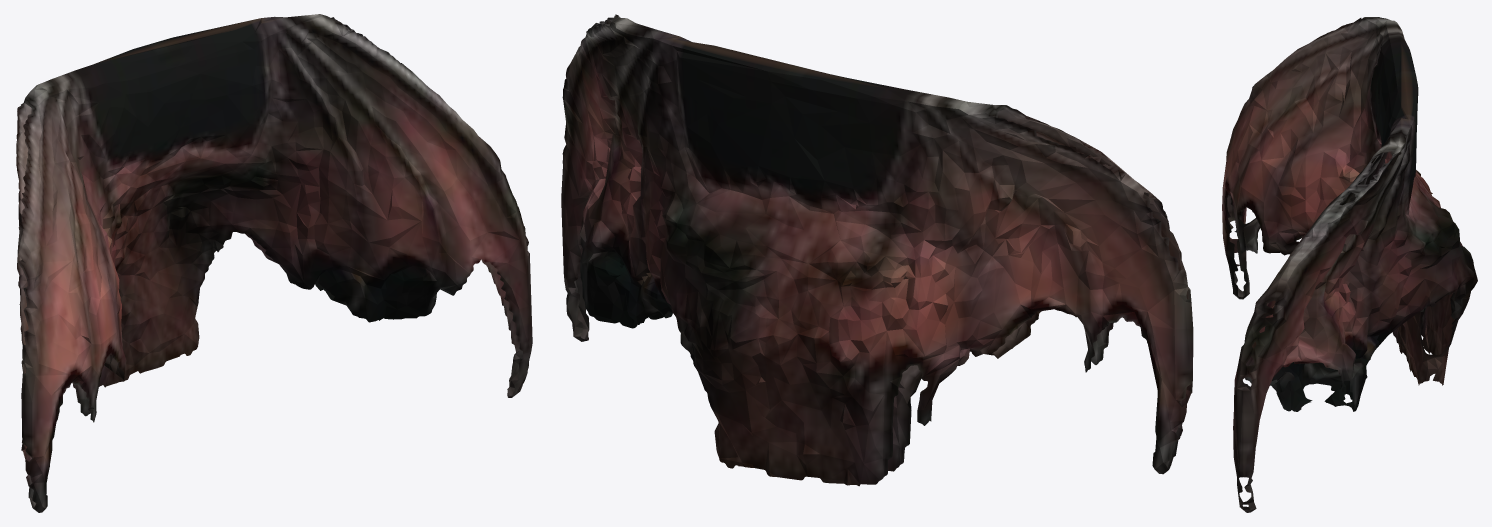
File: feathertail.glb
3 views of the same model, side by side, from view 1: azimuth 30°, elevation 25°; view 2: azimuth 150°, elevation 25°; view 3: azimuth 270°, elevation 25° (orthographic). The views are drawn at different scales.
Visible parts, largest first — view 1: geometry_0; view 2: geometry_0; view 3: geometry_0.
Part boxes in pixels (left/top/right/bottom): geometry_0: left=16, top=14, right=532, bottom=512; geometry_0: left=561, top=14, right=1193, bottom=486; geometry_0: left=1222, top=17, right=1477, bottom=512.
Size of the model in its own units: 1 by 0.6583 by 0.4743.
Materials: 1 (1 with a texture image).
